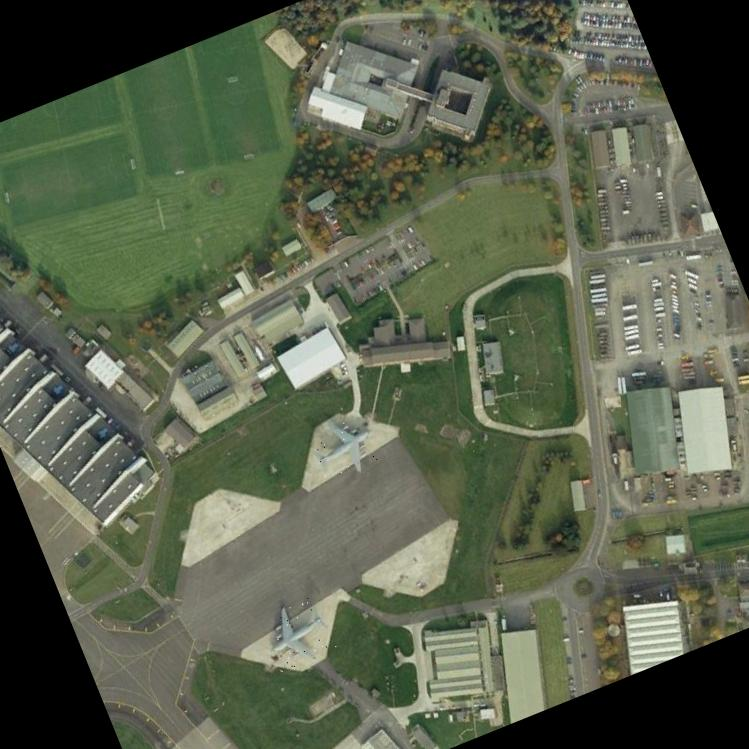A3: (302, 406, 384, 488), (256, 592, 338, 674)
